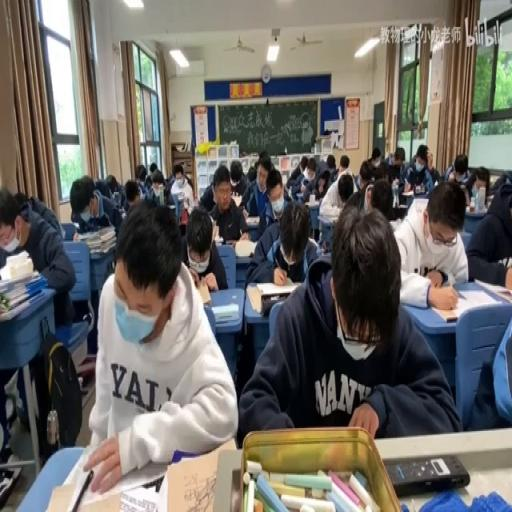calculator: (60, 448, 171, 508), (164, 440, 237, 510), (429, 286, 502, 324), (0, 268, 38, 292), (254, 282, 300, 296), (210, 302, 238, 324), (244, 284, 262, 314), (406, 196, 429, 219), (234, 236, 256, 256), (194, 279, 210, 303), (318, 209, 340, 225), (230, 194, 242, 208), (245, 214, 260, 224), (224, 238, 237, 248), (401, 186, 413, 196), (213, 234, 224, 244), (302, 198, 320, 204), (241, 208, 249, 220), (396, 202, 407, 210)
paper: (237, 204, 454, 442), (78, 199, 236, 491), (0, 188, 77, 330), (465, 173, 512, 284), (320, 174, 368, 253), (201, 165, 248, 245), (70, 174, 120, 244), (244, 158, 279, 230), (359, 175, 402, 227), (402, 142, 436, 196), (442, 151, 474, 199), (170, 160, 194, 214), (306, 158, 334, 199), (136, 169, 164, 208), (382, 144, 406, 186), (285, 155, 308, 193), (334, 152, 354, 186), (122, 179, 141, 209), (491, 171, 512, 195), (14, 189, 30, 215), (358, 160, 371, 188), (104, 174, 120, 196), (372, 162, 388, 184), (476, 168, 489, 190), (160, 168, 173, 189), (230, 163, 242, 185), (370, 146, 380, 164), (246, 166, 255, 184), (258, 149, 268, 165), (148, 162, 158, 176), (184, 174, 193, 189), (426, 151, 432, 168), (138, 174, 144, 184)
person: (385, 452, 470, 496), (0, 462, 21, 511), (261, 292, 290, 314), (320, 239, 326, 253)
